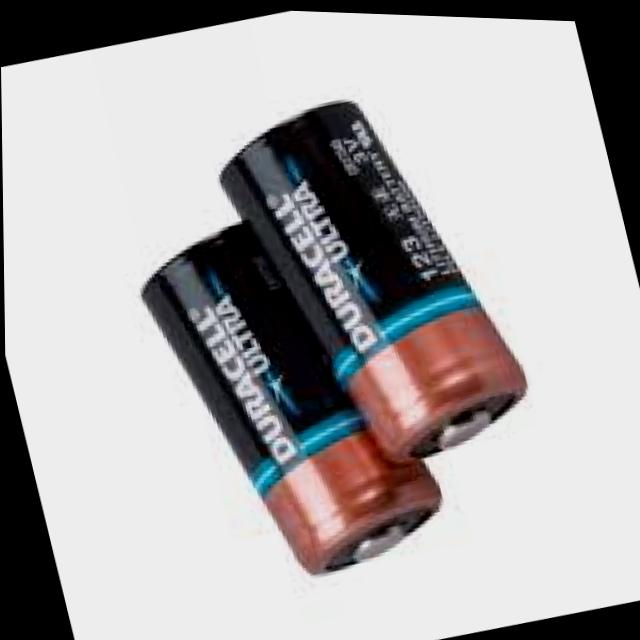B3: (84, 32, 601, 626)
